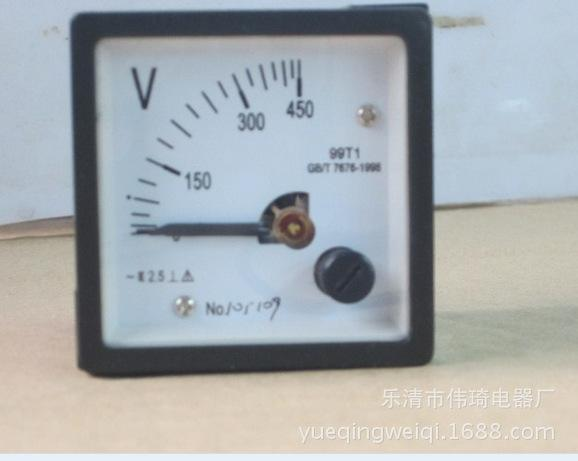pointer: (91, 34, 407, 348)
